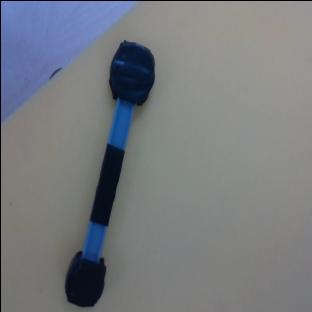part_3_bad: (53, 37, 161, 310)
